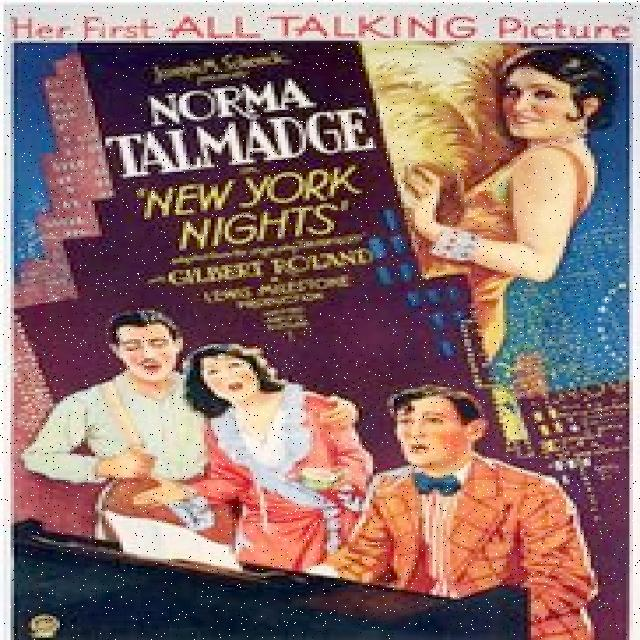movie-judul: (89, 62, 387, 317)
picture: (37, 313, 599, 625), (403, 58, 586, 328)
